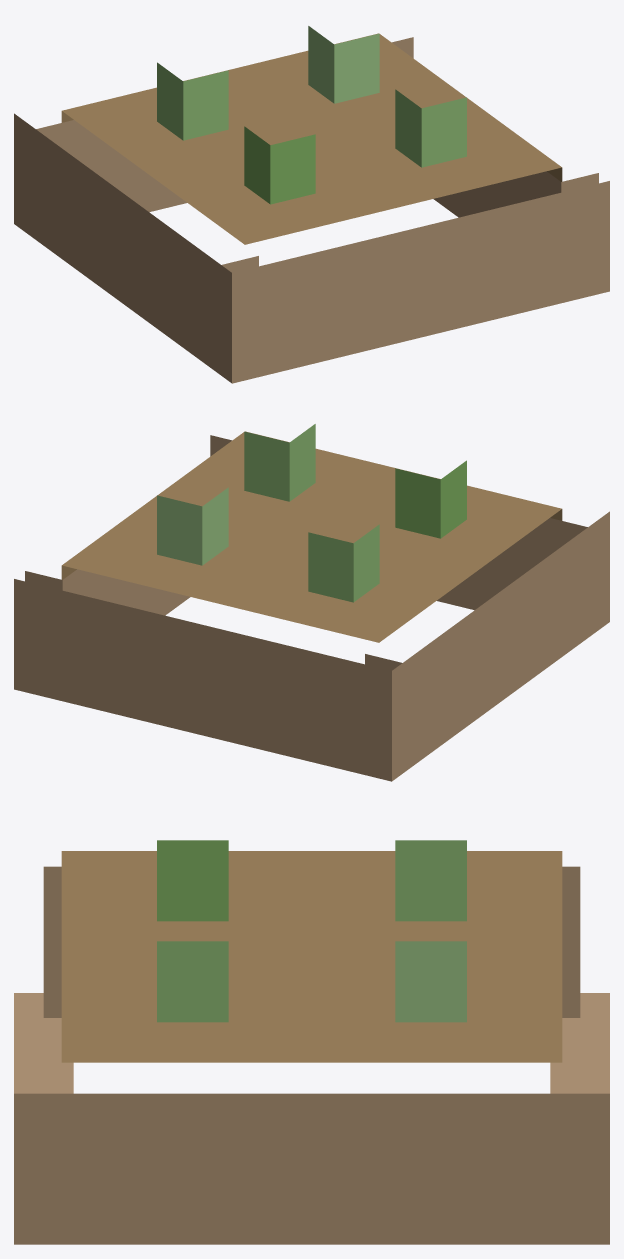
Rendered from raised_bed.glb.
3 views of the same model, one above another, from view 1: azimuth 30°, elevation 25°; view 2: azimuth 150°, elevation 25°; view 3: azimuth 270°, elevation 25° (orthographic). The views are drawn at different scales.
Bounding box in the file's own units: 1 × 0.45 × 1.
